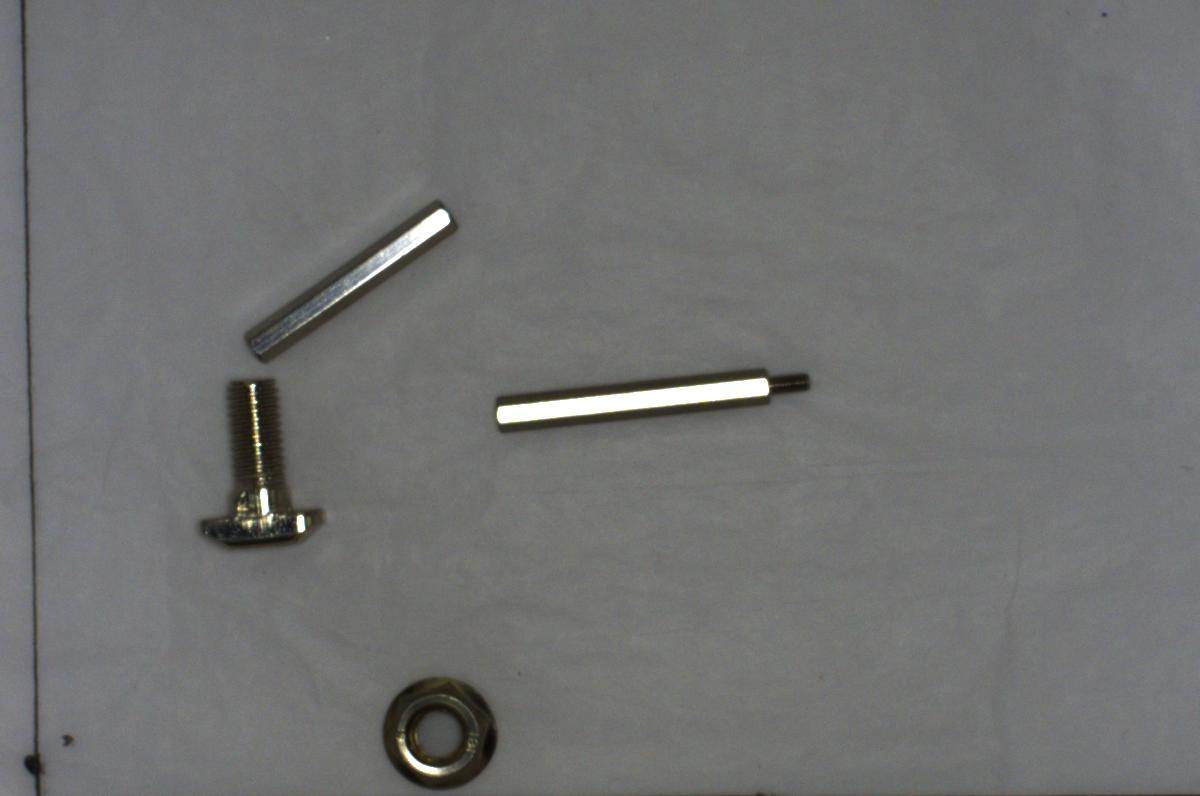Double hexagonal column: (246, 198, 460, 359)
Flange nut: (372, 667, 505, 788)
Hexagonal steel column: (480, 363, 820, 442)
T-shaped screw: (193, 372, 330, 554)
